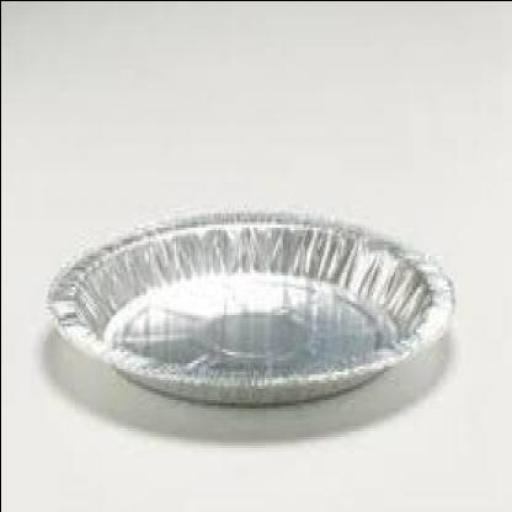metal: (41, 206, 453, 402)
